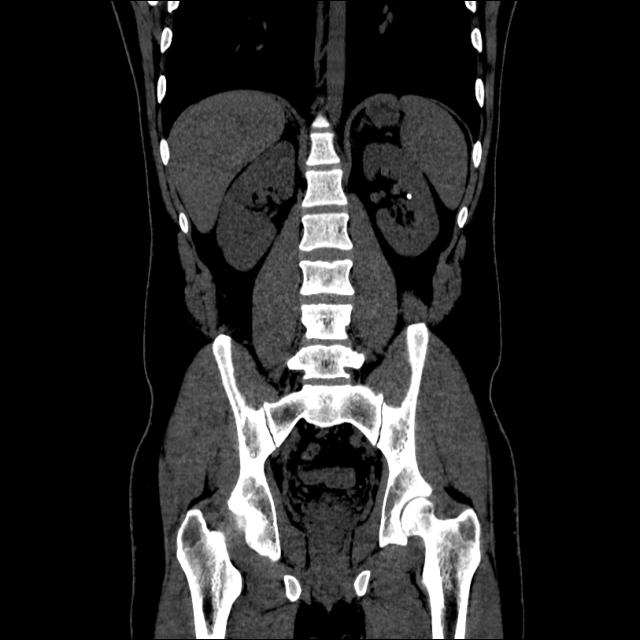kidney: (214, 138, 298, 274), (361, 140, 443, 260)
stone: (406, 189, 414, 202)
